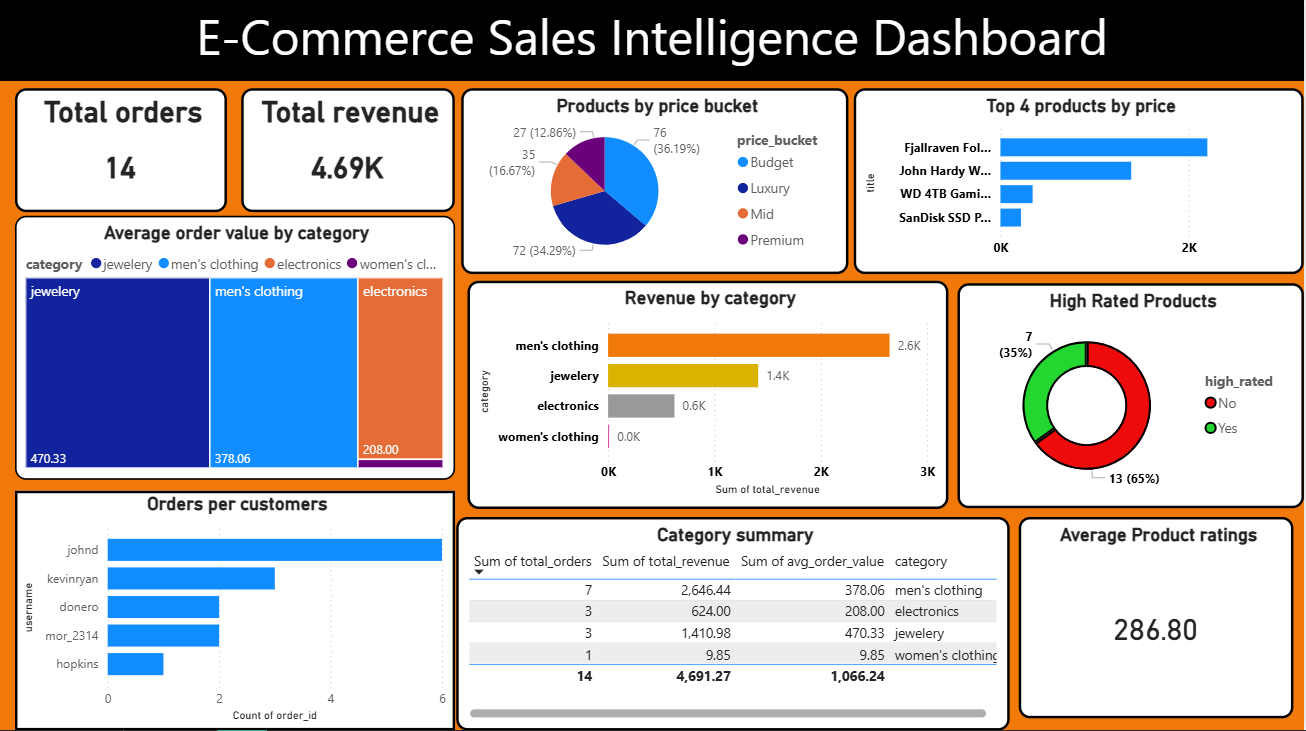

The dashboard page shown, as its layout file describes it:
{"tool":"powerbi","page":{"name":"Page 1","canvas":[1280,720],"ordinal":0},"visuals":[{"type":"treemap","title":"Average order value by category","fields":{"Group":["category_sales.category"],"Values":["Sum(category_sales.avg_order_value)"]},"box":[14.7,214.7,431.9,258.9],"z":0},{"type":"pieChart","title":"Products by price bucket","fields":{"Category":["products.price_bucket"],"Y":["Sum(products.product_id)"]},"box":[452.8,89.2,380.1,182.5],"z":1000},{"type":"card","title":"Total revenue","fields":{"Values":["Sum(category_sales.total_revenue)"]},"box":[236.8,89.6,209.8,121.5],"z":2000},{"type":"card","title":"Total orders","fields":{"Values":["Sum(category_sales.total_orders)"]},"box":[14.9,89.6,207.7,121.9],"z":3000},{"type":"tableEx","title":"Category summary","fields":{"Values":["Sum(category_sales.total_orders)","Sum(category_sales.total_revenue)","Sum(category_sales.avg_order_value)","category_sales.category"]},"box":[447.3,510.5,543.4,209.9],"z":4000},{"type":"barChart","title":"Top 4 products by price","fields":{"Category":["products.title"],"Y":["Sum(orders.total_amount)"]},"box":[838.4,89.2,441.9,182.5],"z":5000},{"type":"donutChart","title":"High Rated Products","fields":{"Category":["products.high_rated"],"Y":["CountNonNull(products.product_id)"]},"box":[940,281.3,340.3,220.9],"z":6000},{"type":"barChart","title":"Orders per customers","fields":{"Category":["users.username"],"Y":["CountNonNull(orders.order_id)"]},"box":[14.7,484.7,431.9,235.6],"z":7000},{"type":"barChart","title":"Revenue by category","fields":{"Category":["category_sales.category"],"Y":["Sum(category_sales.total_revenue)"]},"box":[458.3,278.6,472,223.7],"z":8000},{"type":"textbox","box":[0,0,1280,82.1],"z":9000},{"type":"card","title":"Average Product ratings","fields":{"Values":["Avg(products.rating_count)"]},"box":[1000,510.4,269.9,197.5],"z":10000}]}

Visuals, with their boxes in screenshot pixels (x1, y1, x2, y2), scaled from the page's 1280x720 canvas onto the 1306x731 screenshot:
"Average order value by category" treemap: x1=15, y1=218, x2=456, y2=481
"Products by price bucket" pieChart: x1=462, y1=91, x2=850, y2=276
"Total revenue" card: x1=242, y1=91, x2=456, y2=214
"Total orders" card: x1=15, y1=91, x2=227, y2=215
"Category summary" tableEx: x1=456, y1=518, x2=1011, y2=730
"Top 4 products by price" barChart: x1=855, y1=91, x2=1305, y2=276
"High Rated Products" donutChart: x1=959, y1=286, x2=1305, y2=510
"Orders per customers" barChart: x1=15, y1=492, x2=456, y2=730
"Revenue by category" barChart: x1=468, y1=283, x2=949, y2=510
textbox: x1=0, y1=0, x2=1305, y2=83
"Average Product ratings" card: x1=1020, y1=518, x2=1296, y2=719
